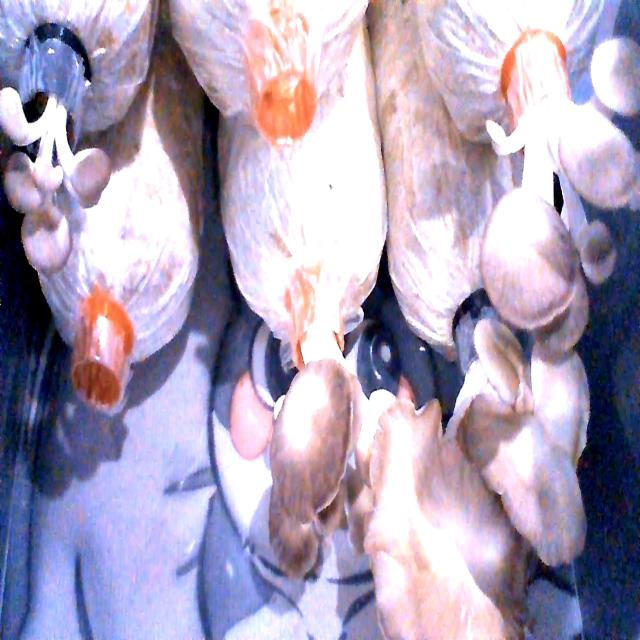big: (370, 359, 600, 640), (474, 45, 640, 366), (259, 328, 365, 595)
nfound: (251, 66, 328, 156), (66, 342, 128, 444)
small: (0, 102, 124, 271)
